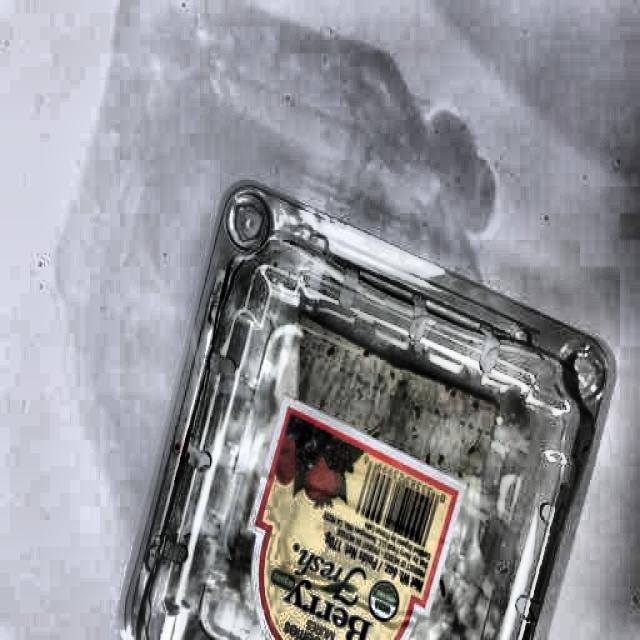plastic: (151, 174, 605, 640)
